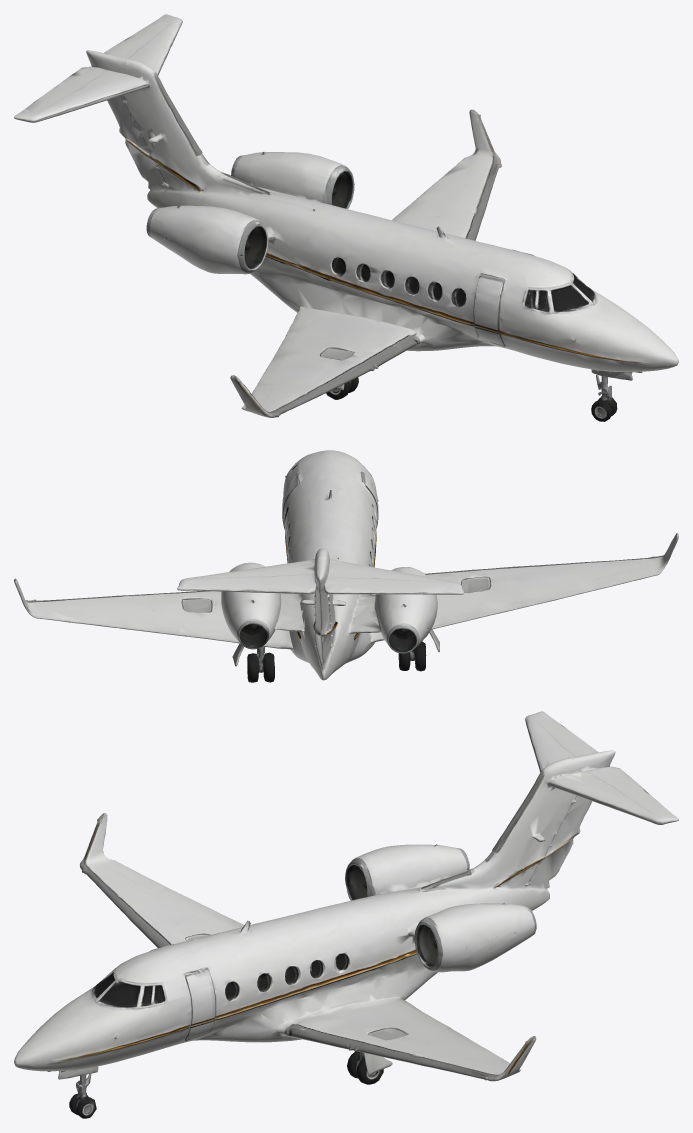
Rendered from jet-hf.glb.
The picture shows the model from 3 angles, top to bottom: view 1: azimuth 30°, elevation 25°; view 2: azimuth 150°, elevation 25°; view 3: azimuth 270°, elevation 25°; orthographic projection.
Visible parts, largest first — view 1: tripo_node_e4a11107-8ef0-401f-8359-d344fa0fdd08; view 2: tripo_node_e4a11107-8ef0-401f-8359-d344fa0fdd08; view 3: tripo_node_e4a11107-8ef0-401f-8359-d344fa0fdd08.
Part boxes in pixels (x1,y1,x2,y2): tripo_node_e4a11107-8ef0-401f-8359-d344fa0fdd08: (14,14,678,421); tripo_node_e4a11107-8ef0-401f-8359-d344fa0fdd08: (14,450,678,682); tripo_node_e4a11107-8ef0-401f-8359-d344fa0fdd08: (14,711,678,1118).
Bounding box in the file's own units: 0.8136 × 0.4028 × 1.
Materials: 1 (1 with a texture image).
